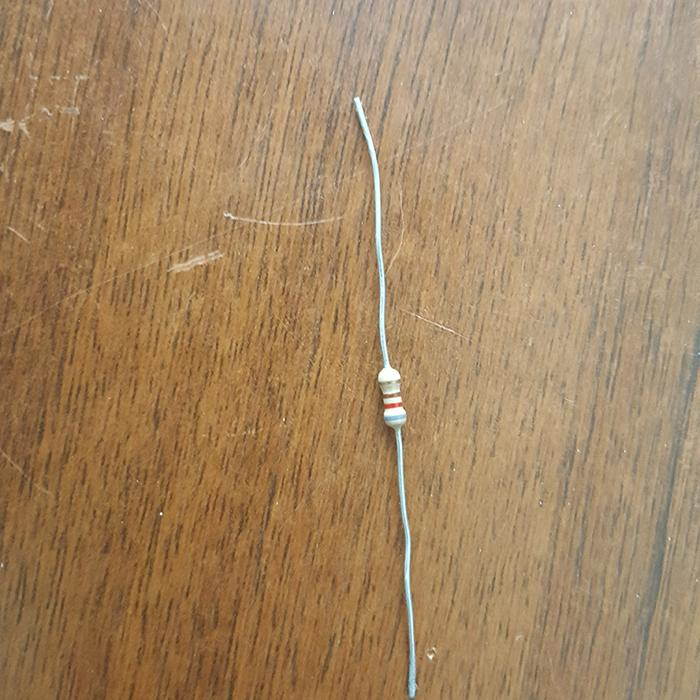resistor: (376, 366, 407, 427)
